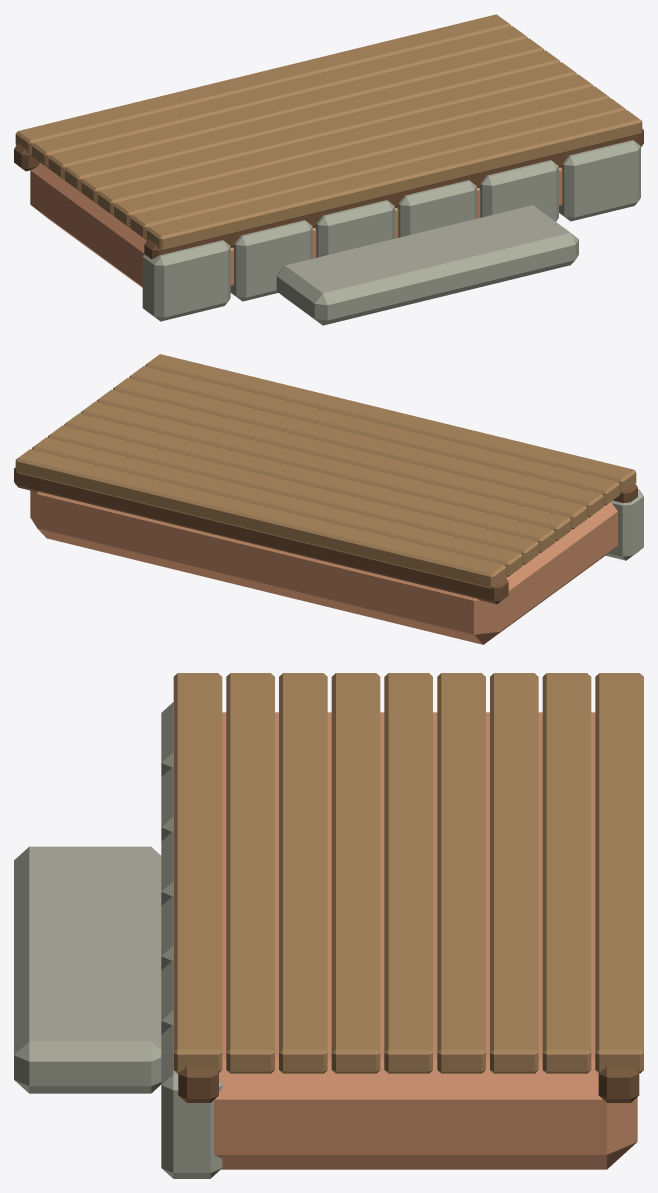
3 renders of one model, top to bottom at view 1: azimuth 30°, elevation 25°; view 2: azimuth 150°, elevation 25°; view 3: azimuth 270°, elevation 25°, orthographic. The views are drawn at different scales.
Visible parts, largest first — view 1: BA-0064 batched; view 2: BA-0064 batched; view 3: BA-0064 batched.
Part boxes in pixels (x1,y1,x2,y2): BA-0064 batched: (14,14,643,325); BA-0064 batched: (14,354,643,644); BA-0064 batched: (14,673,643,1178).
Size of the model in its own units: 2.71 by 0.44 by 1.86.
